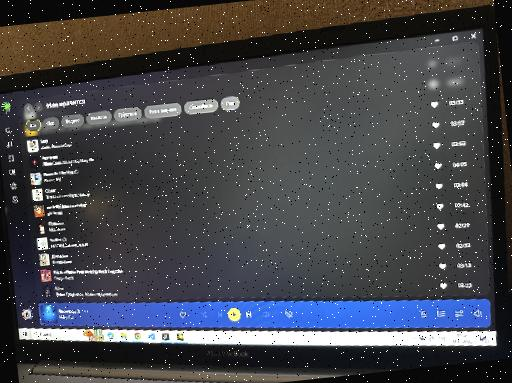yandexmusic: (0, 42, 501, 356)
